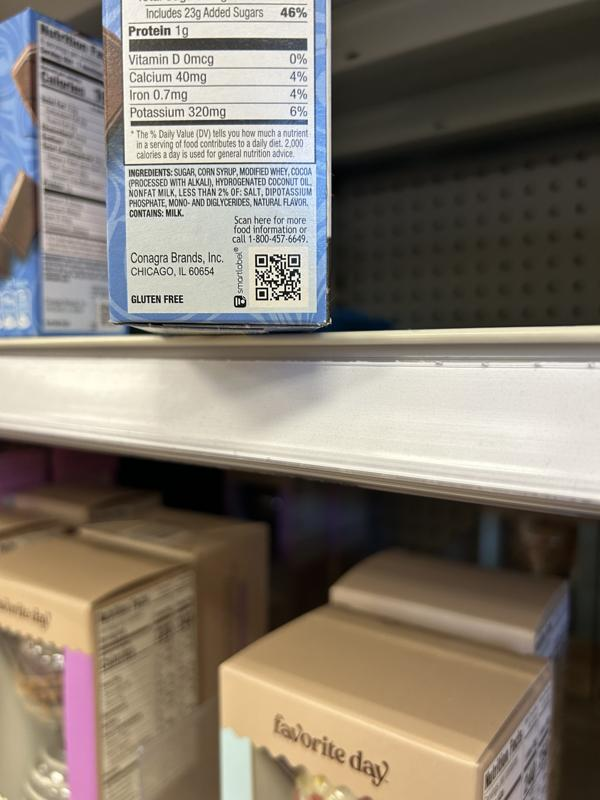ingredients: (127, 166, 316, 209)
